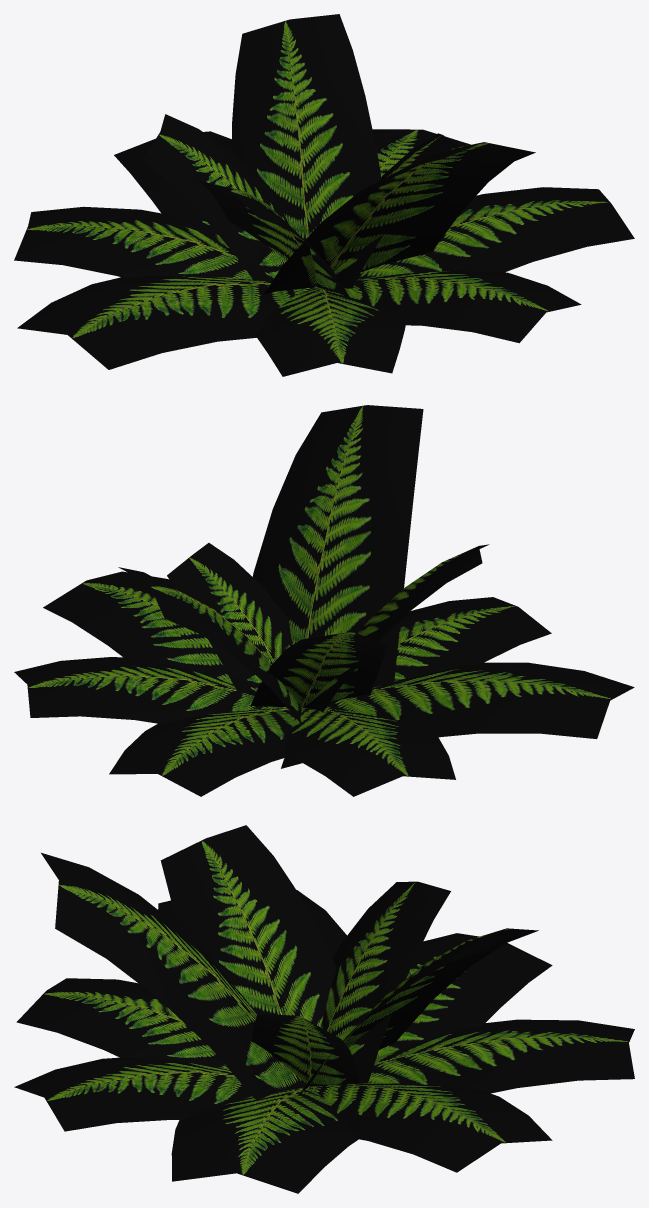
Rendered from Bush1.FBX.
The picture shows the model from 3 angles, top to bottom: view 1: azimuth 30°, elevation 25°; view 2: azimuth 150°, elevation 25°; view 3: azimuth 270°, elevation 25°; orthographic projection. The views are drawn at different scales.
Parts seen in each view (by area): view 1: Plane036, Plane031, Plane039, Plane034, Plane030, Plane033, Plane032, Plane037, Plane038, Plane029, Plane040, Plane035; view 2: Plane039, Plane031, Plane035, Plane029, Plane030, Plane034, Plane032, Plane040, Plane037, Plane036, Plane038; view 3: Plane038, Plane039, Plane029, Plane034, Plane035, Plane033, Plane037, Plane032, Plane030, Plane036, Plane040, Plane031.
Part boxes in pixels (bbox=[...]): Plane036: bbox=[232, 14, 381, 239]; Plane031: bbox=[17, 275, 315, 369]; Plane039: bbox=[264, 142, 535, 294]; Plane034: bbox=[357, 187, 634, 279]; Plane030: bbox=[14, 206, 252, 279]; Plane033: bbox=[344, 270, 581, 343]; Plane032: bbox=[254, 287, 405, 376]; Plane037: bbox=[143, 114, 288, 281]; Plane038: bbox=[188, 179, 350, 298]; Plane029: bbox=[114, 131, 231, 233]; Plane040: bbox=[334, 133, 459, 288]; Plane035: bbox=[372, 129, 470, 176]; Plane039: bbox=[252, 405, 423, 687]; Plane031: bbox=[281, 662, 634, 768]; Plane035: bbox=[14, 657, 286, 724]; Plane029: bbox=[109, 708, 295, 796]; Plane030: bbox=[284, 707, 455, 796]; Plane034: bbox=[43, 571, 231, 681]; Plane032: bbox=[394, 597, 551, 680]; Plane040: bbox=[167, 543, 292, 695]; Plane037: bbox=[250, 631, 387, 707]; Plane036: bbox=[118, 567, 301, 723]; Plane038: bbox=[302, 544, 489, 712]; Plane038: bbox=[160, 825, 336, 1059]; Plane039: bbox=[41, 853, 306, 1100]; Plane029: bbox=[368, 1019, 634, 1093]; Plane034: bbox=[171, 1087, 358, 1193]; Plane035: bbox=[309, 1082, 552, 1172]; Plane033: bbox=[14, 1057, 252, 1131]; Plane037: bbox=[320, 881, 450, 1083]; Plane032: bbox=[16, 978, 227, 1068]; Plane030: bbox=[377, 933, 552, 1057]; Plane036: bbox=[299, 928, 538, 1093]; Plane040: bbox=[252, 1014, 359, 1086]; Plane031: bbox=[158, 890, 346, 957].
Bounding box in the file's own units: 505 × 212 × 442.
Materials: 1 (1 with a texture image).
